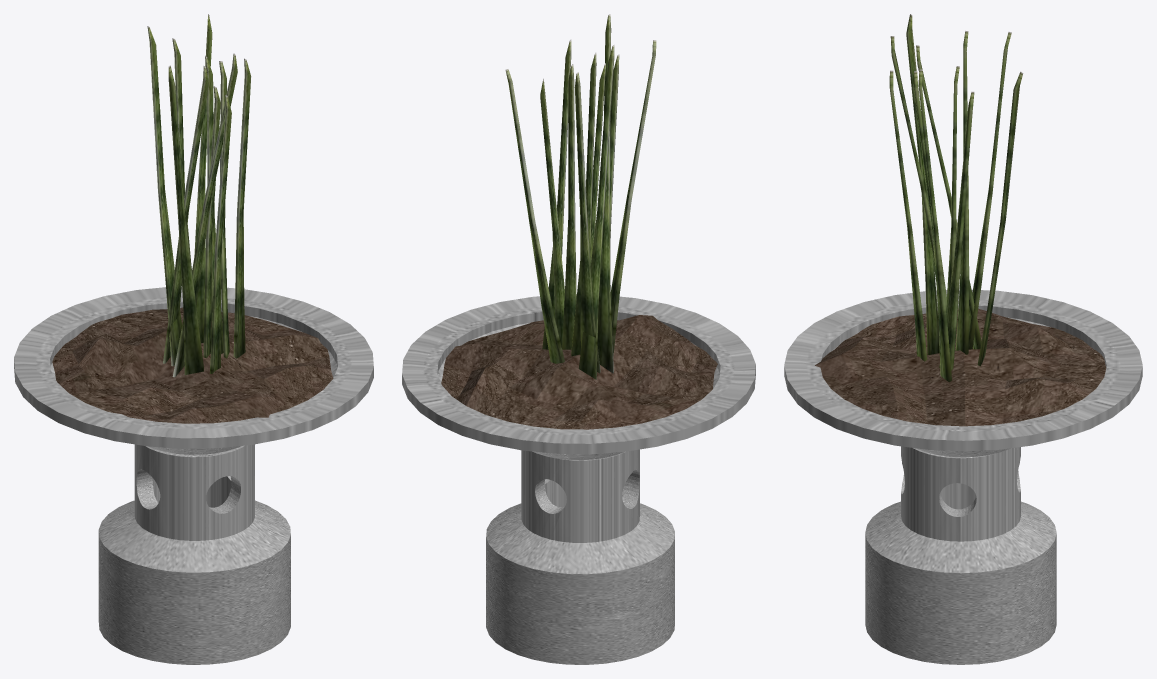
The model's file is Snake Plant.fbx.
The picture shows the model from 3 angles, left to right: view 1: azimuth 30°, elevation 25°; view 2: azimuth 150°, elevation 25°; view 3: azimuth 270°, elevation 25°; orthographic projection.
Visible parts, largest first — view 1: Kawa 1.001, Plane, Plane.011, Plane.010, Plane.002, Plane.004, Plane.009, Plane.007, Plane.005, Plane.001, Plane.006, Plane.008 (+1 smaller); view 2: Kawa 1.001, Plane, Plane.007, Plane.009, Plane.010, Plane.008, Plane.005, Plane.006, Plane.011, Plane.003, Plane.002, Plane.001 (+1 smaller); view 3: Kawa 1.001, Plane, Plane.011, Plane.002, Plane.006, Plane.003, Plane.005, Plane.004, Plane.010, Plane.008, Plane.007, Plane.009 (+1 smaller).
Boxes of the visible parts, x1,y1,x2,y2 form: Kawa 1.001: (14,287,373,664); Plane: (52,307,333,423); Plane.011: (168,65,203,374); Plane.010: (147,26,182,366); Plane.002: (233,58,251,358); Plane.004: (209,95,231,373); Plane.009: (172,53,237,377); Plane.007: (163,66,208,363); Plane.005: (194,14,212,343); Plane.001: (203,86,220,358); Plane.006: (219,61,229,358); Plane.008: (205,56,223,353); Kawa 1.001: (402,294,755,664); Plane: (441,315,717,429); Plane.007: (578,45,614,379); Plane.009: (597,14,613,373); Plane.010: (574,72,600,373); Plane.008: (562,64,576,349); Plane.005: (505,69,564,363); Plane.006: (540,78,564,348); Plane.011: (610,40,656,355); Plane.003: (571,53,596,356); Plane.002: (542,39,571,349); Plane.001: (590,63,605,265); Kawa 1.001: (784,289,1142,664); Plane: (815,308,1106,426); Plane.011: (906,14,939,354); Plane.002: (918,69,951,382); Plane.006: (939,91,974,370); Plane.003: (955,31,969,354); Plane.005: (977,71,1023,366); Plane.004: (889,70,927,361); Plane.010: (968,32,1011,349); Plane.008: (946,66,959,314); Plane.007: (916,45,981,349); Plane.009: (890,36,955,350).
Size of the model in its own units: 134 by 244 by 134.
14 materials, 14 textured.
